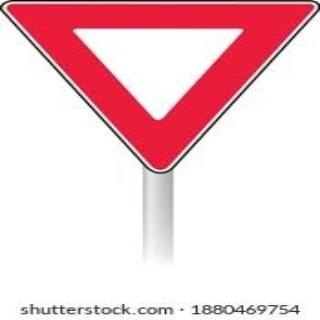sign_yield: (2, 1, 315, 175)
